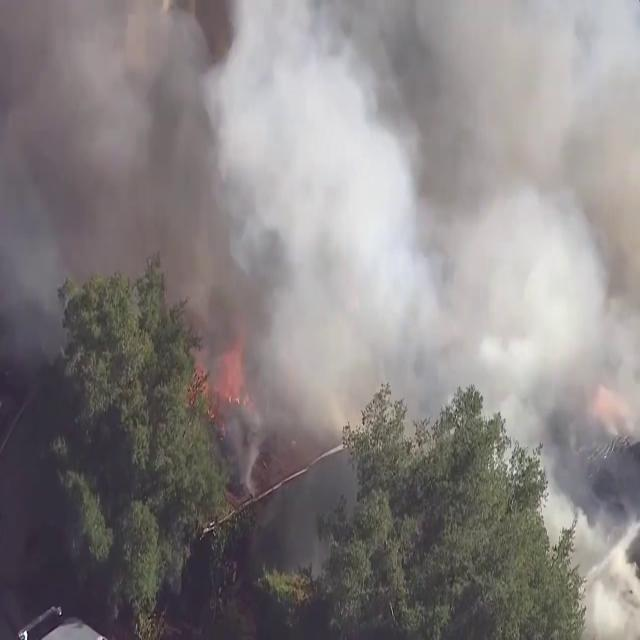Smoke: (71, 0, 638, 486)
